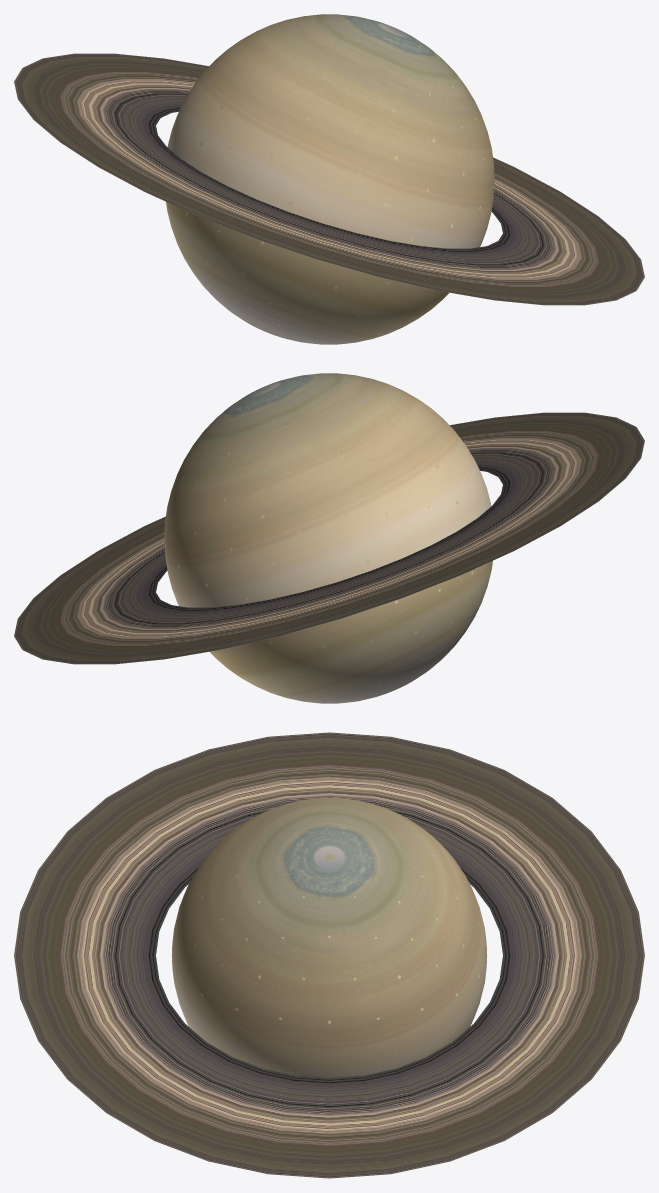
File: Saturn.glb
The picture shows the model from 3 angles, top to bottom: view 1: azimuth 30°, elevation 25°; view 2: azimuth 150°, elevation 25°; view 3: azimuth 270°, elevation 25°; orthographic projection. The views are drawn at different scales.
Visible parts, largest first — view 1: Saturn, Ring, Saturn_Lod; view 2: Saturn, Ring, Saturn_Lod; view 3: Ring, Saturn.
Part boxes in pixels (box(x1,y1,x2,y2)): Saturn: box(166, 14, 494, 344); Ring: box(14, 53, 644, 305); Saturn_Lod: box(171, 27, 493, 343); Saturn: box(164, 373, 492, 703); Ring: box(14, 412, 644, 664); Saturn_Lod: box(165, 377, 487, 702); Ring: box(14, 732, 644, 1178); Saturn: box(172, 798, 486, 1077).
Size of the model in its own units: 3.76 by 2 by 4.
3 materials, 3 textured.
